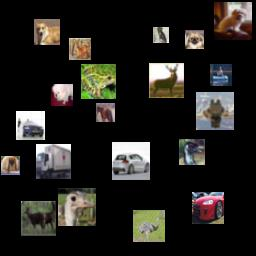automobile: (112, 142, 150, 180), (192, 192, 224, 224), (16, 111, 45, 140)
bird: (58, 188, 96, 226), (133, 210, 165, 242), (179, 139, 205, 165)
deer: (149, 63, 184, 98), (21, 201, 56, 236), (69, 38, 91, 60)
dog: (214, 2, 252, 40), (34, 19, 60, 45), (51, 84, 73, 106), (185, 30, 204, 49), (1, 156, 20, 175), (153, 27, 169, 43)
frog: (196, 92, 234, 130), (81, 64, 116, 99)
ship: (210, 64, 232, 86)
truck: (36, 144, 71, 179)
